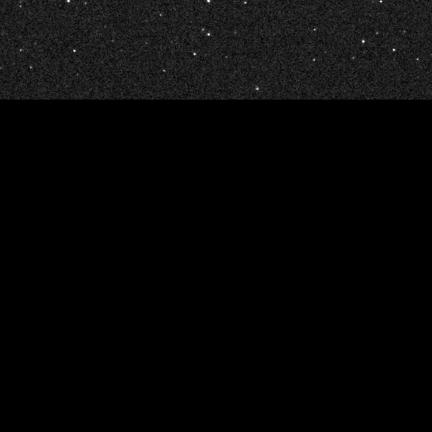blob: (208, 33, 211, 37), (362, 40, 365, 44), (393, 49, 396, 52), (194, 53, 197, 56), (256, 87, 259, 90)
